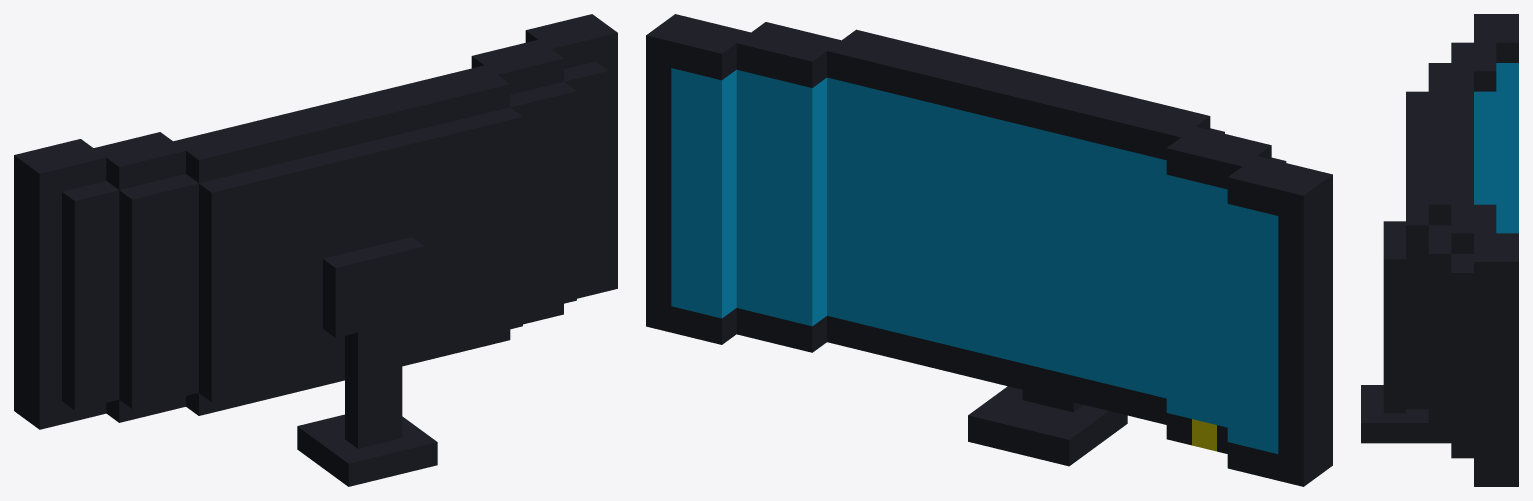
File: monitor.glb
The picture shows the model from 3 angles, left to right: view 1: azimuth 30°, elevation 25°; view 2: azimuth 150°, elevation 25°; view 3: azimuth 270°, elevation 25°; orthographic projection. The views are drawn at different scales.
Parts seen in each view (by area): view 1: model; view 2: model; view 3: model.
Part boxes in pixels (x1,y1,x2,y2): model: (14,14,617,486); model: (646,14,1332,486); model: (1361,14,1518,486).
Bounding box in the file's own units: 2.6 × 1.4 × 0.7.
